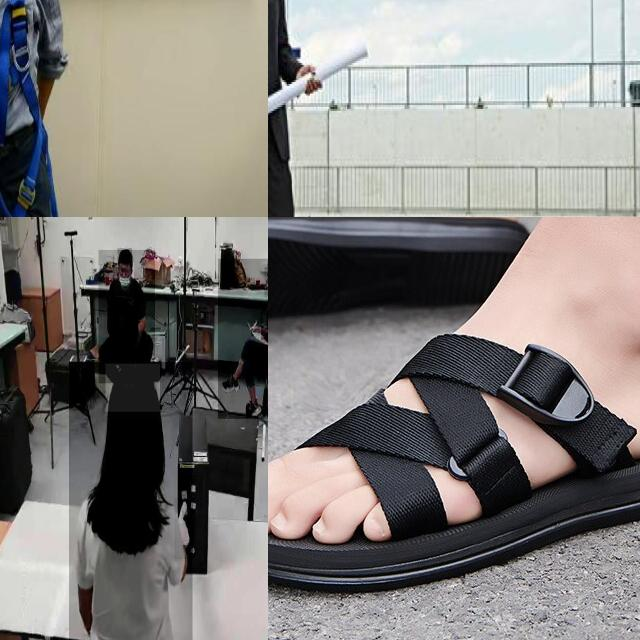Harness: (0, 0, 61, 217)
Sandals: (268, 299, 640, 581)
face_mask: (114, 262, 134, 294), (264, 267, 268, 298)
hand_glove: (174, 498, 196, 559)
hand_noglove: (261, 327, 268, 341)
head_nohelmet: (106, 363, 160, 412), (118, 248, 132, 264)
person: (69, 362, 193, 640), (217, 258, 268, 419), (98, 250, 156, 383)
shoes: (220, 372, 242, 398)
